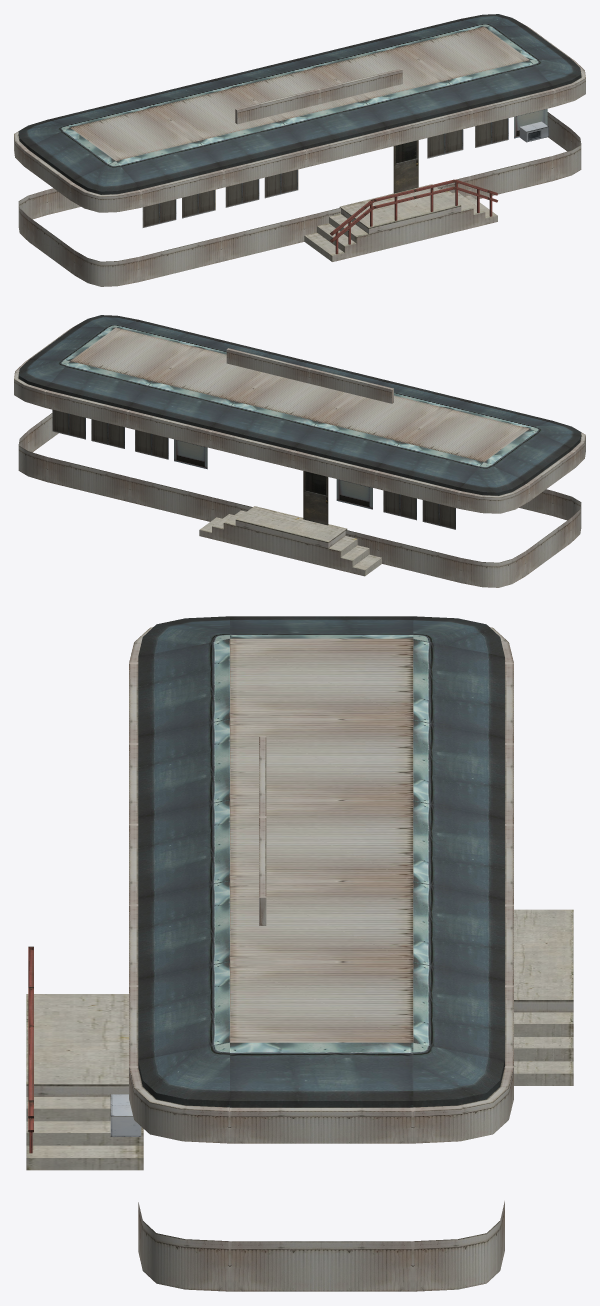
File: rural_diner_1_rural_facade_flr_2_0_lev2.glb
The picture shows the model from 3 angles, top to bottom: view 1: azimuth 30°, elevation 25°; view 2: azimuth 150°, elevation 25°; view 3: azimuth 270°, elevation 25°; orthographic projection. The views are drawn at different scales.
Parts seen in each view (by area): view 1: rural_diner_1_rural_facade_flr_2_0_lev2; view 2: rural_diner_1_rural_facade_flr_2_0_lev2; view 3: rural_diner_1_rural_facade_flr_2_0_lev2.
Boxes of the visible parts, bbox=[...] form: rural_diner_1_rural_facade_flr_2_0_lev2: bbox=[14, 14, 585, 286]; rural_diner_1_rural_facade_flr_2_0_lev2: bbox=[14, 315, 585, 587]; rural_diner_1_rural_facade_flr_2_0_lev2: bbox=[26, 616, 573, 1291].
Bounding box in the file's own units: 13.56 × 3.03 × 6.36.
Materials: 1 (1 with a texture image).
